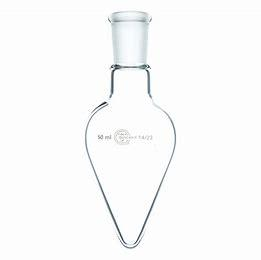Pear shaped flask: (88, 8, 180, 246)
